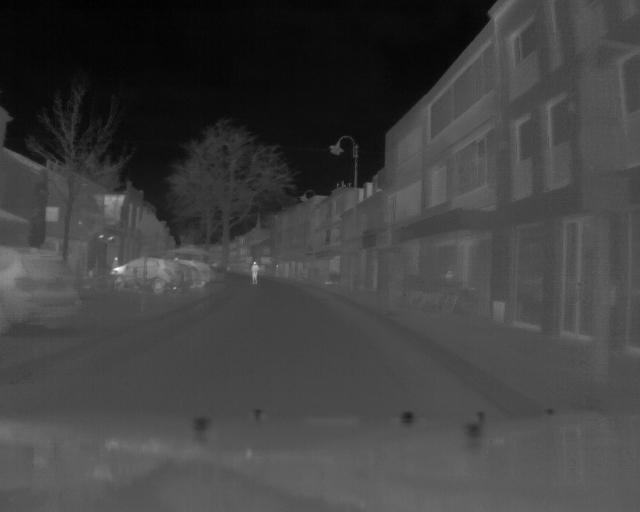car: (1, 245, 87, 338), (111, 267, 184, 296)
person: (248, 259, 265, 289), (112, 255, 120, 268)
